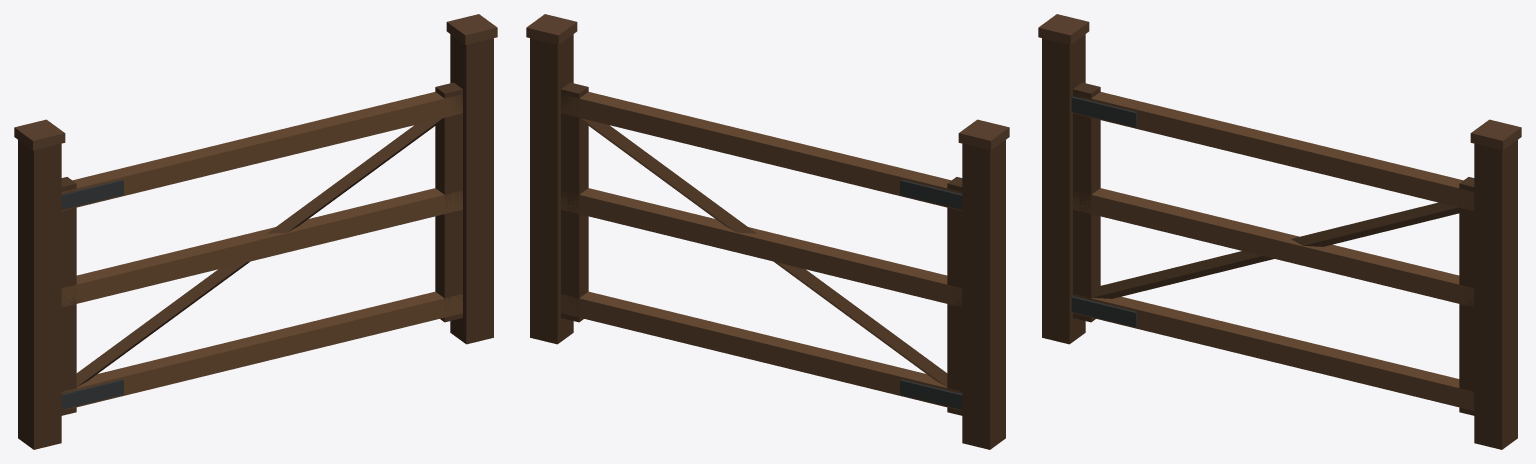
Rendered from prop_fence_gate.glb.
3 views of the same model, side by side, from view 1: azimuth 30°, elevation 25°; view 2: azimuth 150°, elevation 25°; view 3: azimuth 330°, elevation 25° (orthographic).
Parts seen in each view (by area): view 1: Leaf, Frame; view 2: Leaf, Frame; view 3: Leaf, Frame.
Boxes of the visible parts, x1,y1,x2,y2 form: Leaf: (61,82,462,415); Frame: (14,14,497,449); Leaf: (561,82,962,415); Frame: (526,14,1009,449); Leaf: (1071,82,1474,415); Frame: (1038,14,1521,449).
Size of the model in its own units: 2.02 by 1.29 by 0.14.
